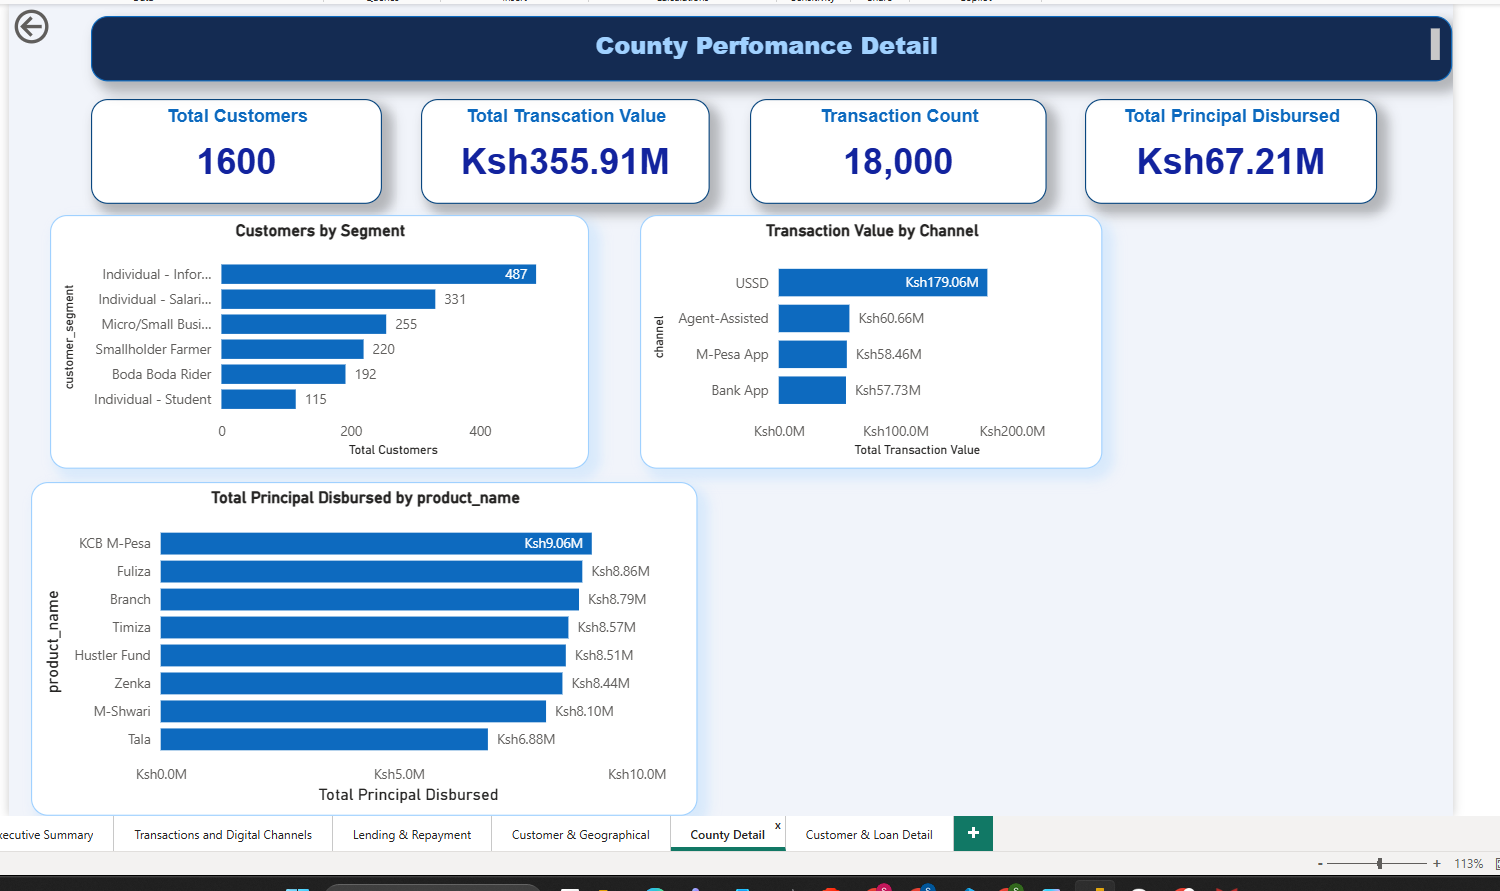

Layout of this report page (visuals, bound fields, positions):
{"tool":"powerbi","page":{"name":"County Detail","canvas":[1280,720],"ordinal":4},"visuals":[{"type":"actionButton","box":[0,0,100,40],"z":0},{"type":"card","title":"Total Customers","fields":{"Values":["Wekeza_Measures.Total Customers"]},"box":[73,84.5,257.7,92.8],"z":1000},{"type":"card","title":"Total Transcation Value","fields":{"Values":["Wekeza_Measures.Total Transaction Value"]},"box":[365.1,84.5,255.6,92.8],"z":2000},{"type":"card","title":"Transaction Count","fields":{"Values":["Wekeza_Measures.Transaction Count"]},"box":[657.2,84.5,262.9,92.8],"z":3000},{"type":"card","title":"Total Principal Disbursed","fields":{"Values":["Wekeza_Measures.Total Principal Disbursed"]},"box":[954.5,84.5,258.7,92.8],"z":4000},{"type":"clusteredBarChart","title":"Customers by Segment","fields":{"Category":["customers.customer_segment"],"Y":["Wekeza_Measures.Total Customers"]},"box":[36.5,186.7,477.8,225.3],"z":5000},{"type":"clusteredBarChart","title":"Transaction Value by Channel","fields":{"Category":["transactions.channel"],"Y":["Wekeza_Measures.Total Transaction Value"]},"box":[559.2,186.7,410,225.3],"z":6000},{"type":"clusteredBarChart","fields":{"Category":["loan_products.product_name"],"Y":["Wekeza_Measures.Total Principal Disbursed"]},"box":[19.8,423.5,591.5,296.3],"z":7000},{"type":"textbox","box":[73,10.4,1207,58.4],"z":8000}]}

Visuals, with their boxes on the page's 1280x720 design canvas (x1, y1, x2, y2). These are canvas units, not pixel positions in the 1500x891 screenshot, which may show the page scaled, cropped or inside an application window:
actionButton: (left=0, top=0, right=100, bottom=40)
"Total Customers" card: (left=73, top=84, right=331, bottom=177)
"Total Transcation Value" card: (left=365, top=84, right=621, bottom=177)
"Transaction Count" card: (left=657, top=84, right=920, bottom=177)
"Total Principal Disbursed" card: (left=954, top=84, right=1213, bottom=177)
"Customers by Segment" clusteredBarChart: (left=36, top=187, right=514, bottom=412)
"Transaction Value by Channel" clusteredBarChart: (left=559, top=187, right=969, bottom=412)
clusteredBarChart - loan_products.product_name x Wekeza_Measures.Total Principal Disbursed: (left=20, top=424, right=611, bottom=720)
textbox: (left=73, top=10, right=1280, bottom=69)
